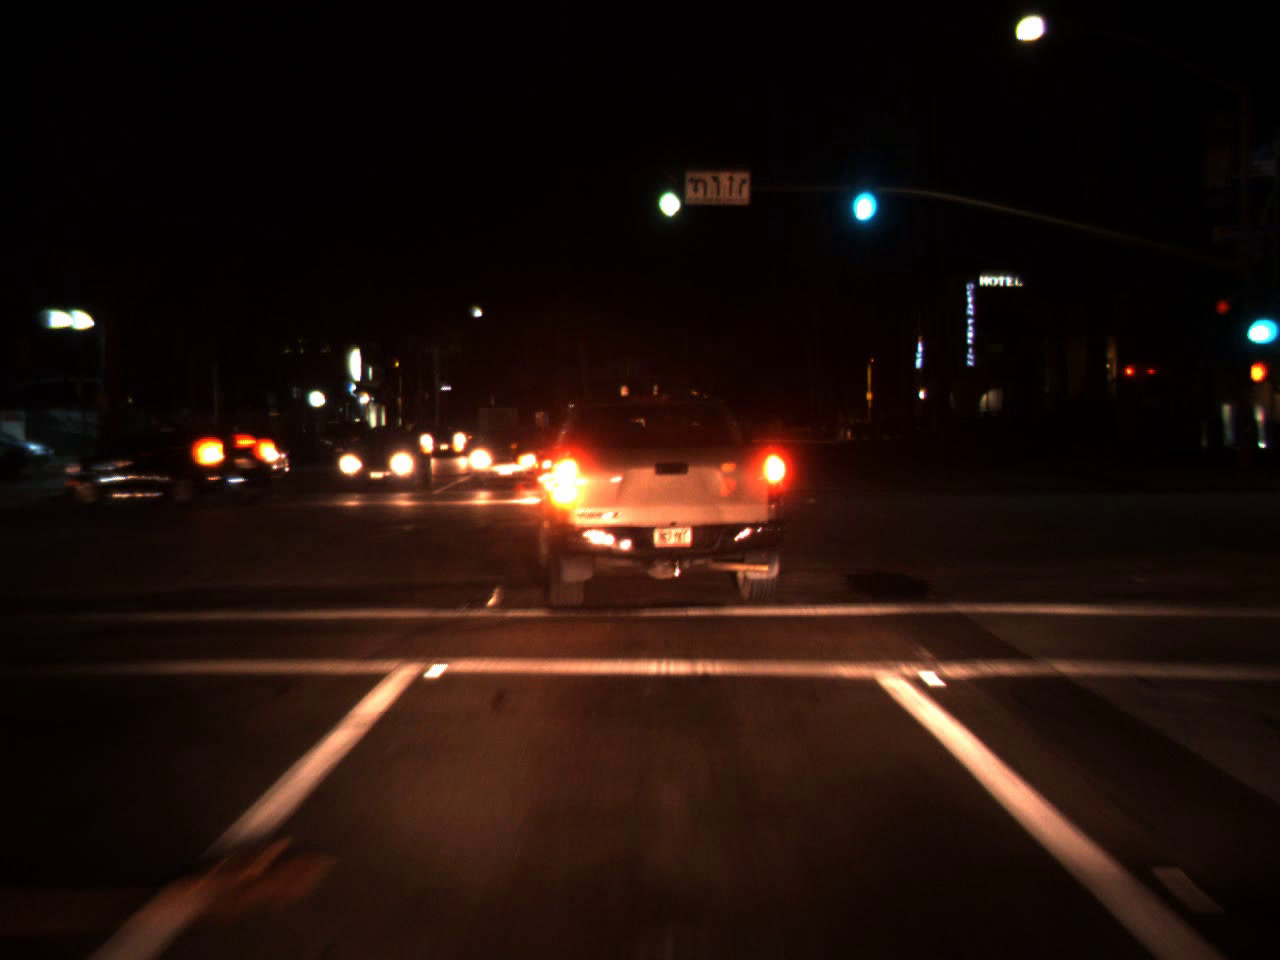go: (1234, 288, 1280, 354), (843, 156, 882, 231), (651, 161, 685, 227)
